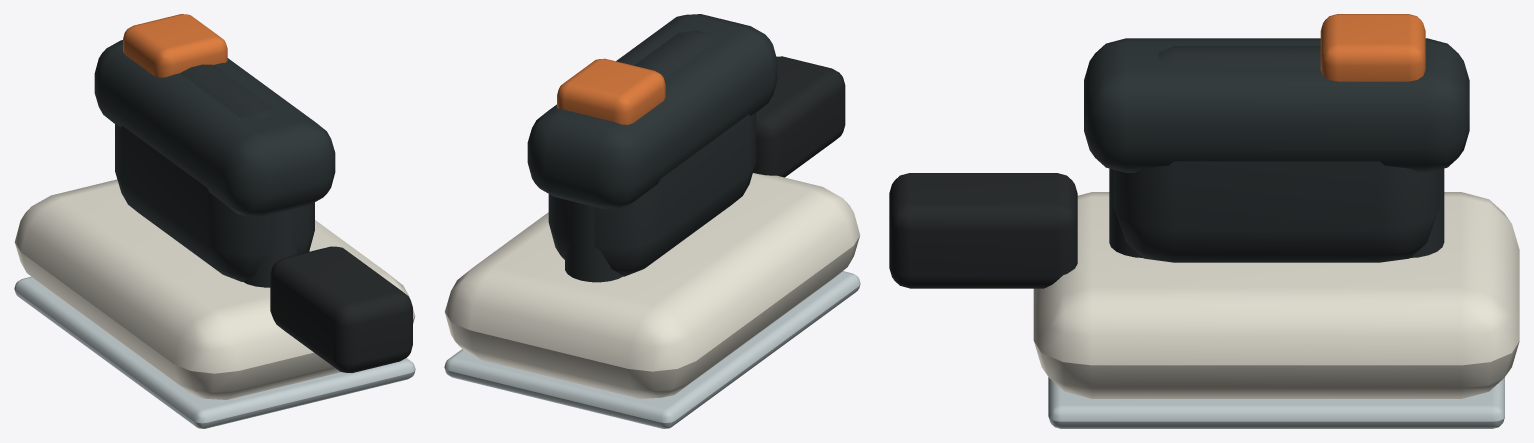
The model's file is BraunPaddle.fbx.
3 renders of one model, left to right at view 1: azimuth 30°, elevation 25°; view 2: azimuth 150°, elevation 25°; view 3: azimuth 270°, elevation 25°, orthographic. The views are drawn at different scales.
Parts seen in each view (by area): view 1: BraunPaddle; view 2: BraunPaddle; view 3: BraunPaddle.
Part boxes in pixels (bbox=[...]): BraunPaddle: bbox=[14, 14, 415, 428]; BraunPaddle: bbox=[444, 14, 860, 428]; BraunPaddle: bbox=[889, 14, 1519, 428].
Size of the model in its own units: 7.9 by 8.9 by 15.05.
